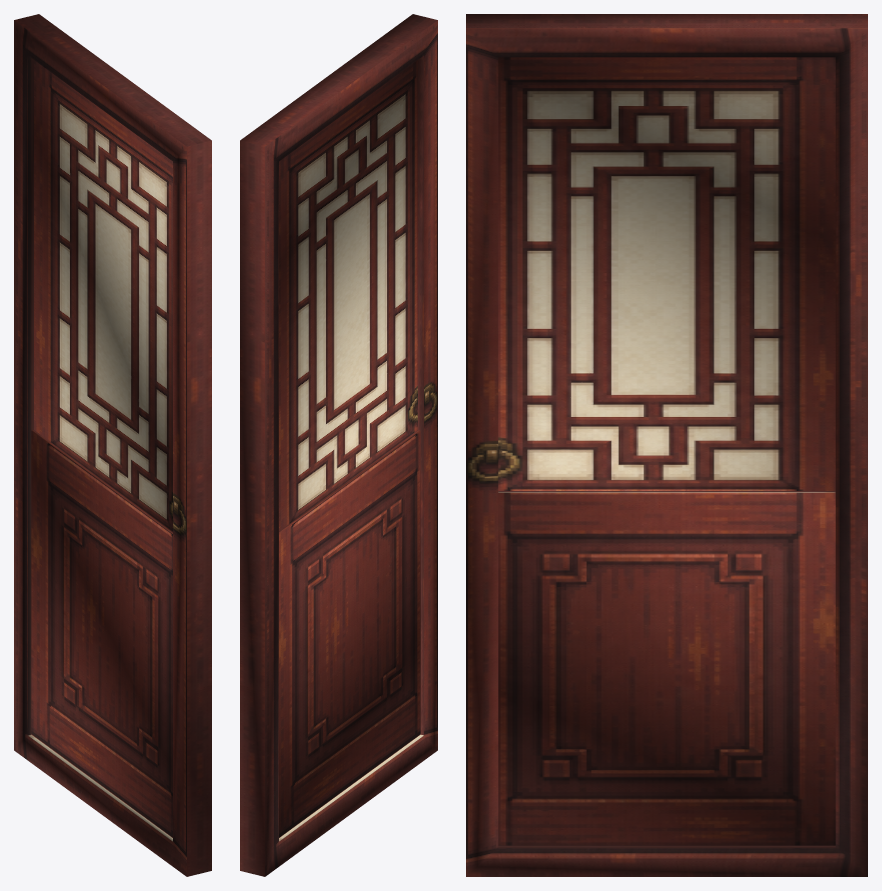
The model's file is door.glb.
3 renders of one model, left to right at view 1: azimuth 30°, elevation 25°; view 2: azimuth 150°, elevation 25°; view 3: azimuth 270°, elevation 25°, orthographic. The views are drawn at different scales.
Parts seen in each view (by area): view 1: 平面.001; view 2: 平面.001; view 3: 平面.001.
Boxes of the visible parts, bbox=[...] form: 平面.001: bbox=[14, 14, 211, 876]; 平面.001: bbox=[240, 14, 437, 876]; 平面.001: bbox=[466, 14, 867, 876].
Size of the model in its own units: 0.1675 by 4.66 by 2.
Materials: 1 (1 with a texture image).
